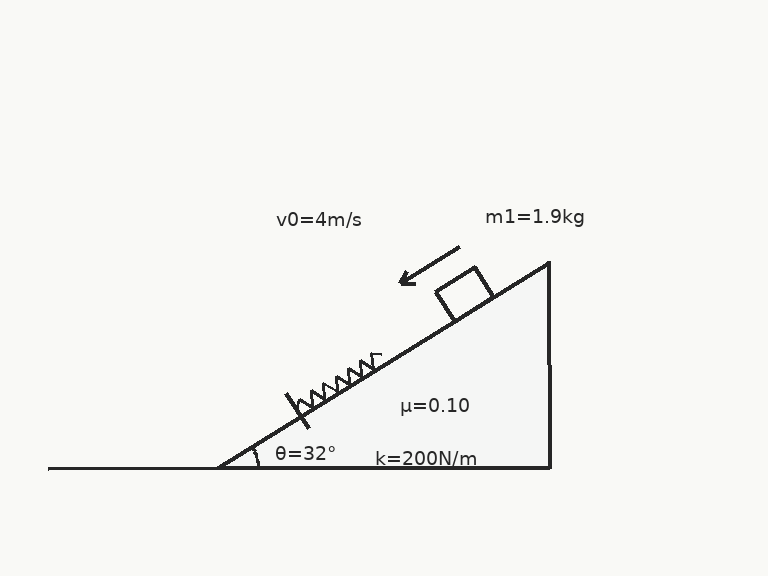block: (434, 265, 495, 323)
ramp: (216, 259, 551, 470)
spring: (294, 351, 384, 411)
